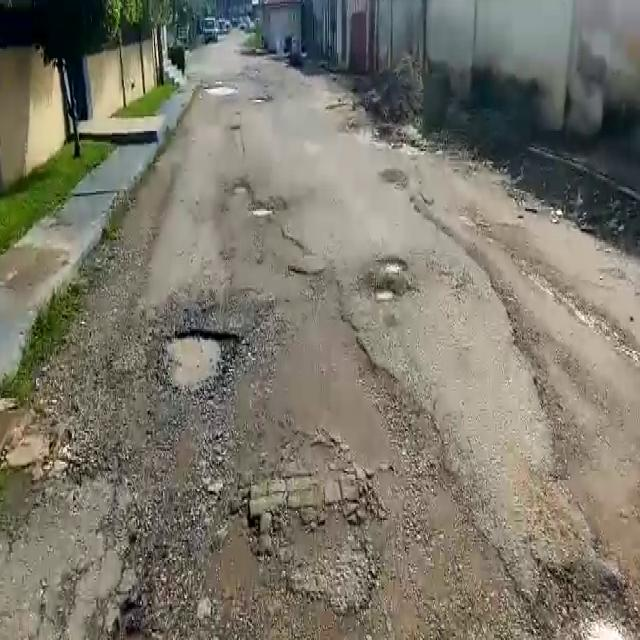Pothole: (159, 331, 238, 394), (376, 258, 408, 276), (374, 286, 395, 303), (230, 183, 250, 197), (250, 208, 275, 217)
